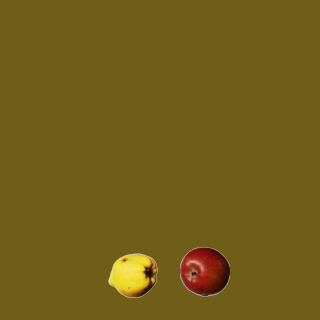Apple Braeburn: (179, 246, 229, 296)
Quince: (107, 250, 157, 300)
